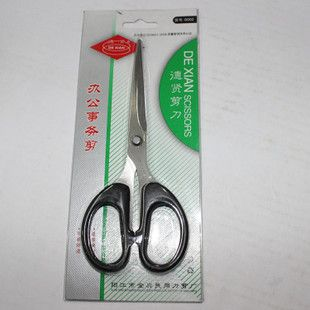scissor: (79, 35, 190, 274)
